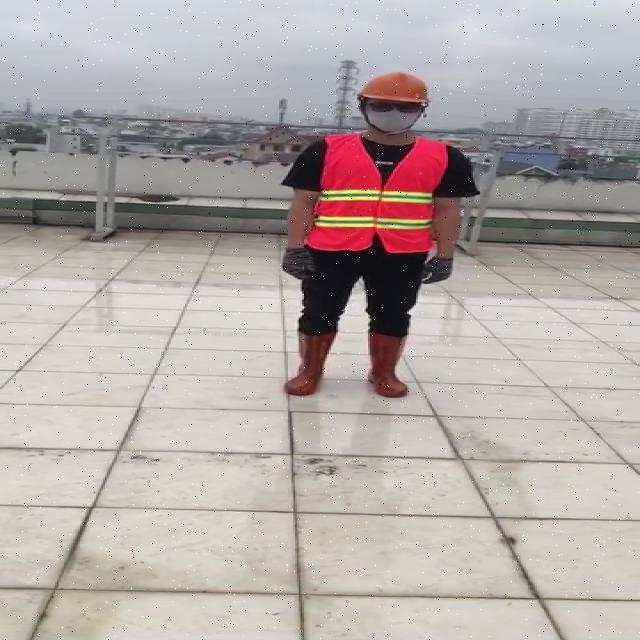Hard_hat: (354, 70, 438, 115)
Person: (267, 67, 477, 405)
Vest: (307, 133, 443, 257)
